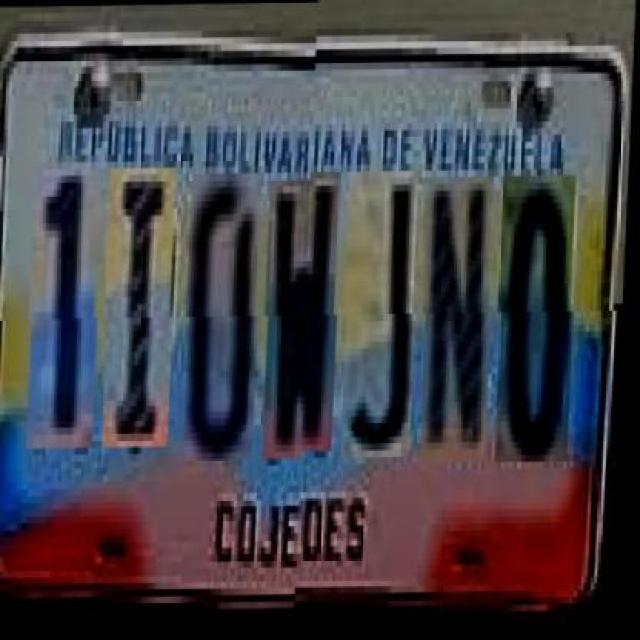0: (188, 173, 266, 461)
1: (30, 169, 105, 449)
i: (106, 168, 182, 448)
j: (345, 179, 423, 466)
n: (423, 184, 499, 471)
o: (498, 183, 582, 471)
w: (265, 180, 344, 460)
